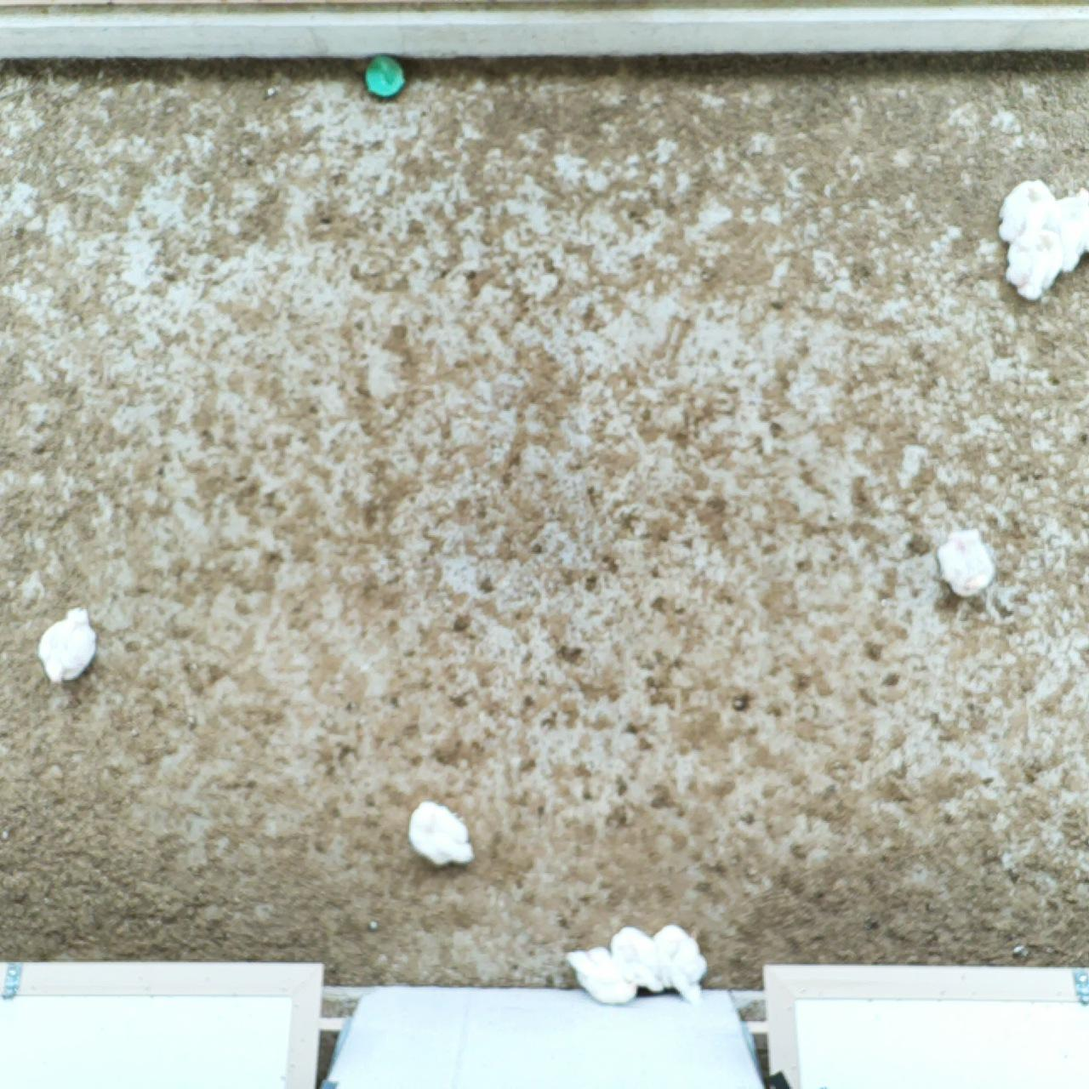chicken: (32, 603, 103, 690), (404, 794, 477, 874), (997, 221, 1065, 301), (931, 523, 1000, 600), (646, 919, 710, 999), (564, 941, 641, 1006), (999, 173, 1061, 247), (605, 921, 664, 997), (1043, 183, 1089, 276)
